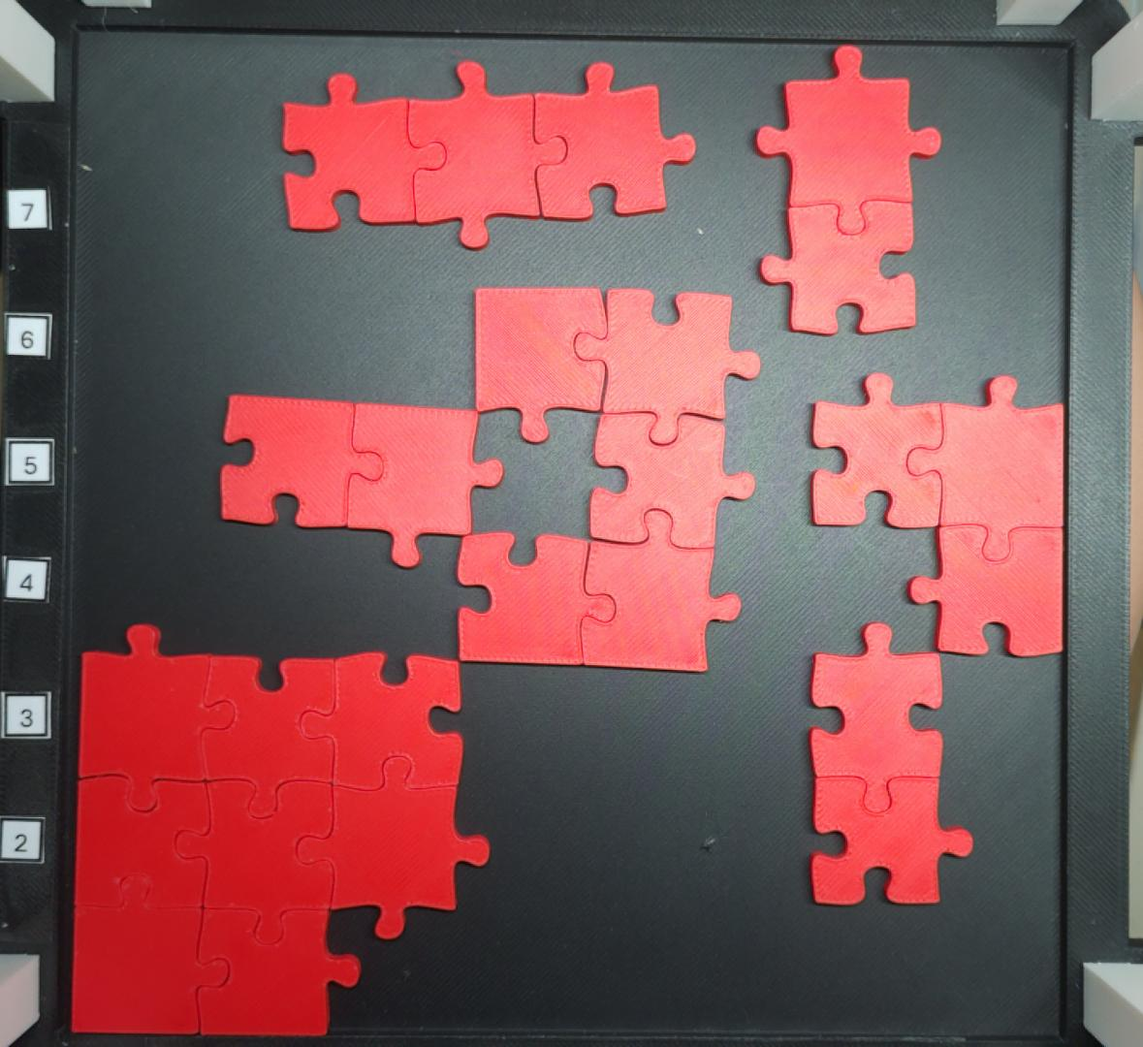p_2: (754, 43, 942, 338), (217, 392, 507, 568), (808, 622, 975, 908)
p_3: (283, 60, 697, 247), (809, 370, 1064, 658)
p_m: (71, 624, 489, 1034), (459, 286, 762, 673)
